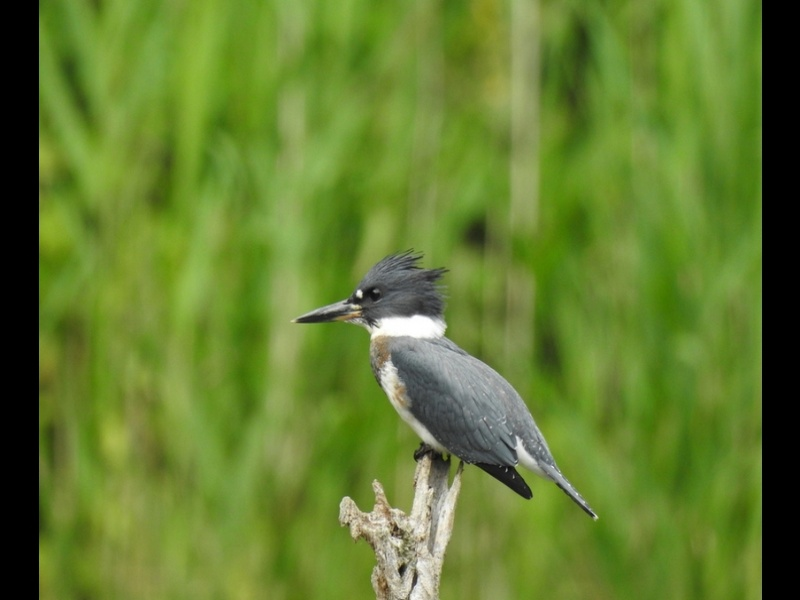kingfisher: (285, 250, 605, 523)
